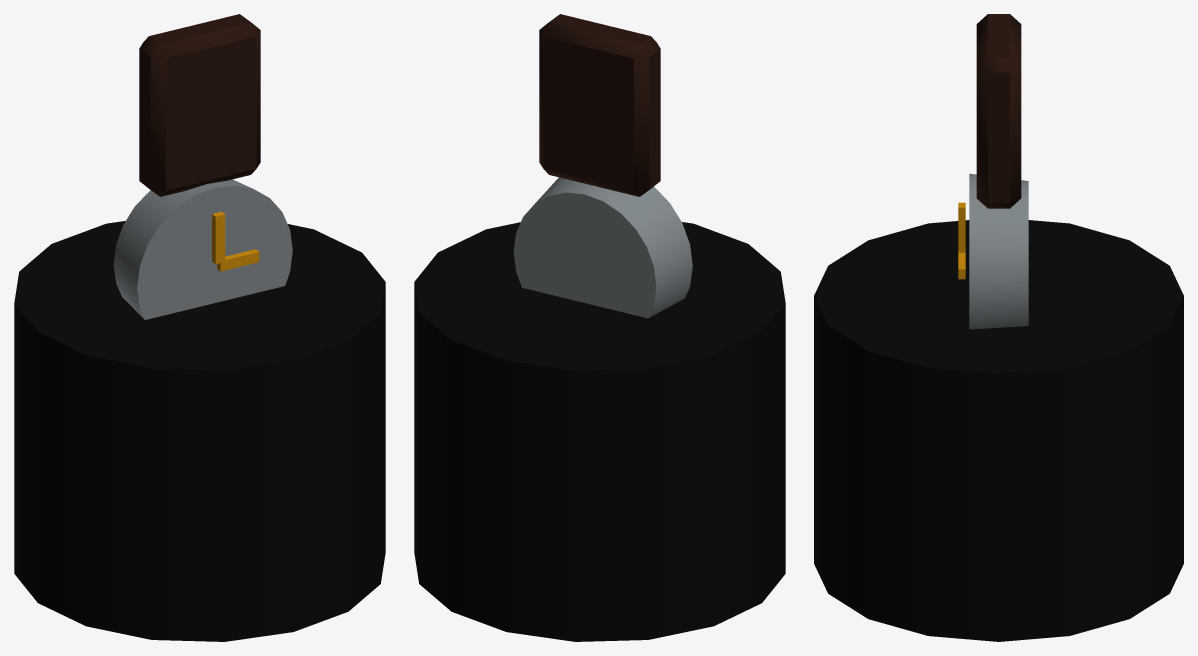
The model's file is mall-watch.glb.
3 views of the same model, side by side, from view 1: azimuth 30°, elevation 25°; view 2: azimuth 150°, elevation 25°; view 3: azimuth 270°, elevation 25° (orthographic).
Parts seen in each view (by area): view 1: cushion__fabric, case__steel, dial__paint; view 2: cushion__fabric, case__steel; view 3: cushion__fabric, case__steel, dial__paint.
Boxes of the visible parts, x1=… form: cushion__fabric: x1=14, y1=221, x2=385, y2=641; case__steel: x1=113, y1=14, x2=292, y2=319; dial__paint: x1=212, y1=211, x2=259, y2=271; cushion__fabric: x1=414, y1=222, x2=785, y2=641; case__steel: x1=513, y1=14, x2=692, y2=318; cushion__fabric: x1=814, y1=220, x2=1183, y2=641; case__steel: x1=969, y1=14, x2=1028, y2=329; dial__paint: x1=958, y1=202, x2=965, y2=279.
Bounding box in the file's own units: 0.1 × 0.1575 × 0.1.
